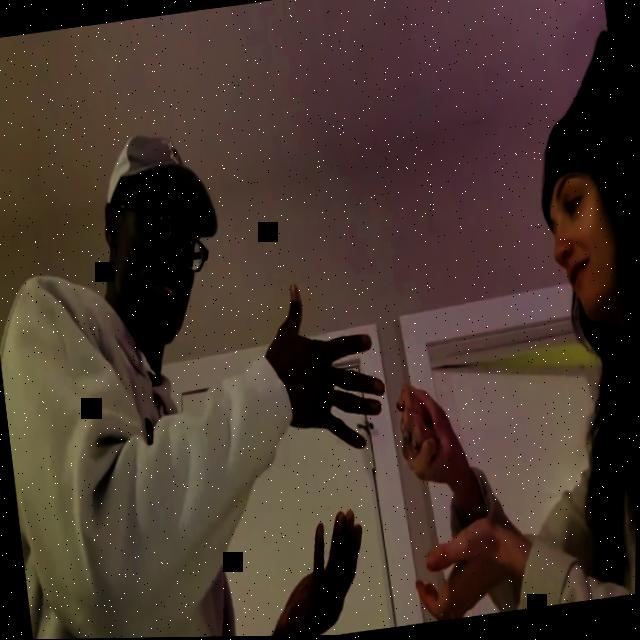Paper: (260, 274, 394, 465)
Rock: (394, 385, 465, 499)
